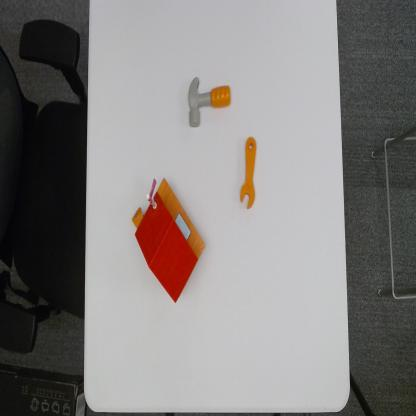Hammer: (188, 74, 232, 130)
House: (129, 175, 207, 306)
Screwdriver: (239, 134, 257, 212)
